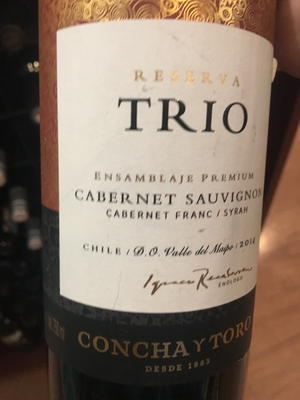trio cabernet sauvignon: (35, 1, 281, 395)
